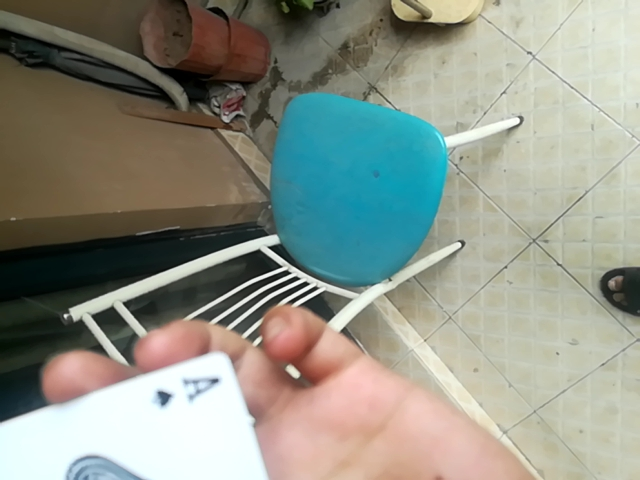ht a: (8, 346, 291, 480)
